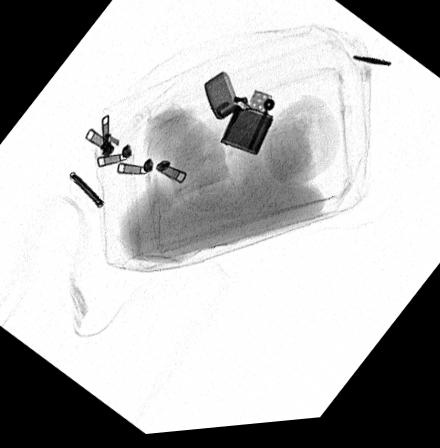Lighter: (202, 75, 274, 160)
